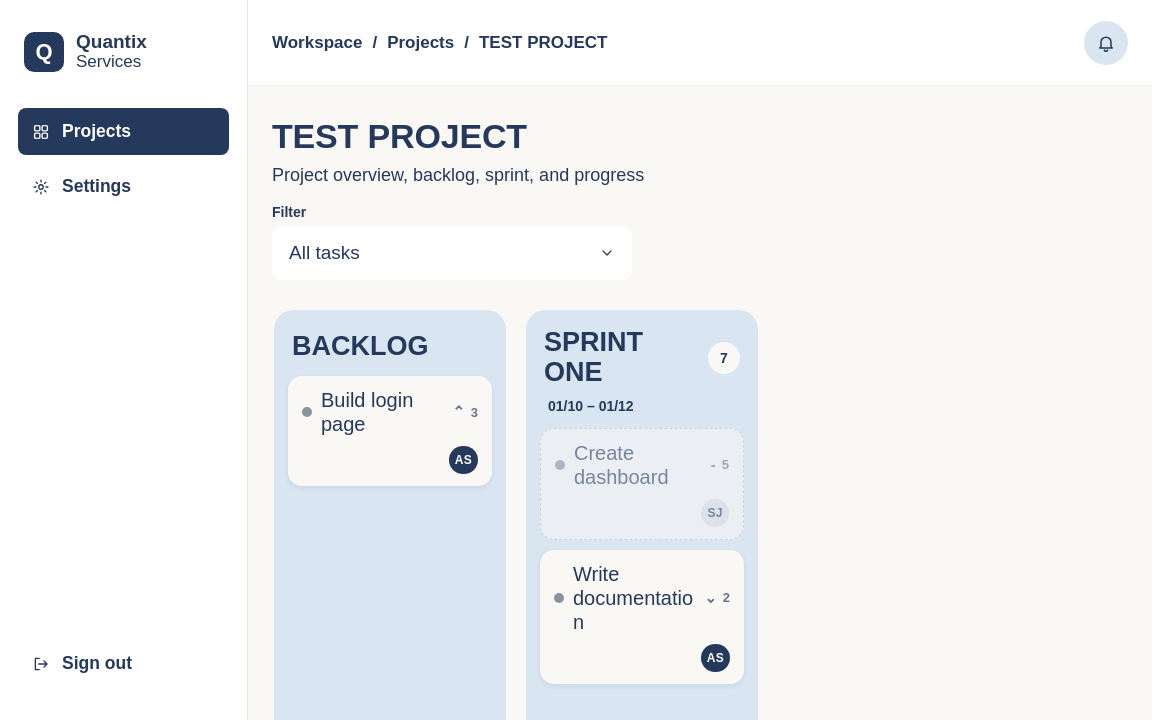
Test: Developer filtering › opens the developer filter
Click the button named "Filter". click: point(324, 253)
box: top-left (272, 226), bottom-right (632, 280)
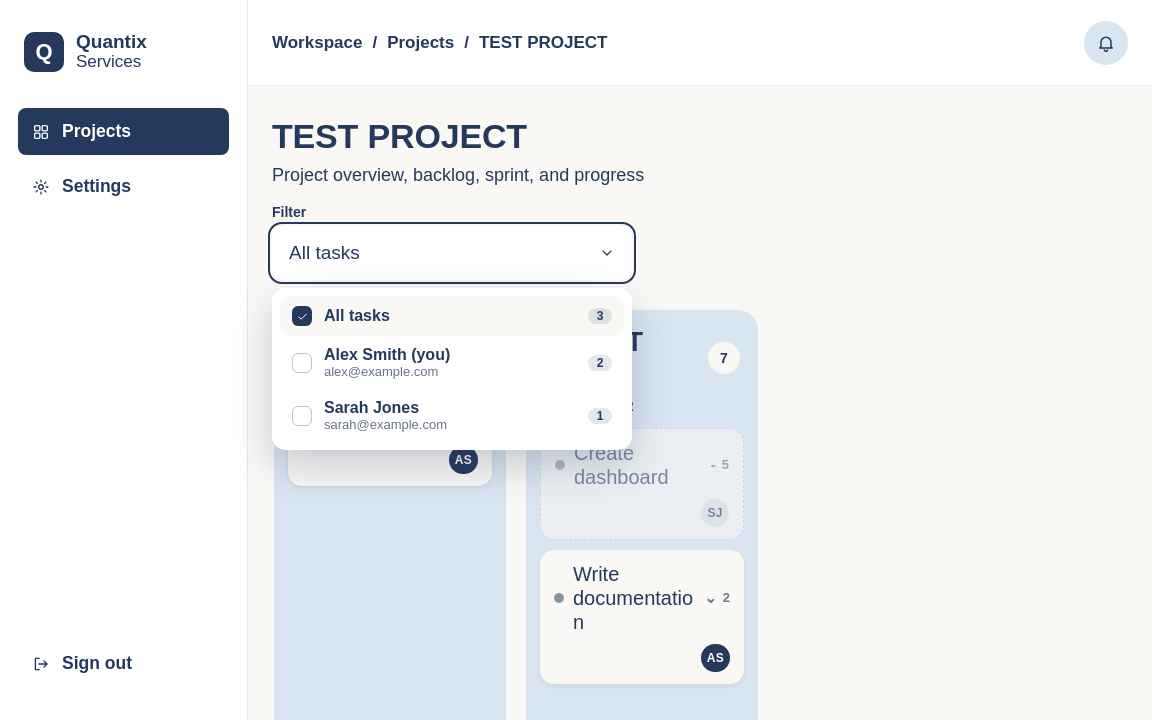
Now the list named "Filter tasks by assignee" is shown, box top-left (272, 288), bottom-right (632, 450)
